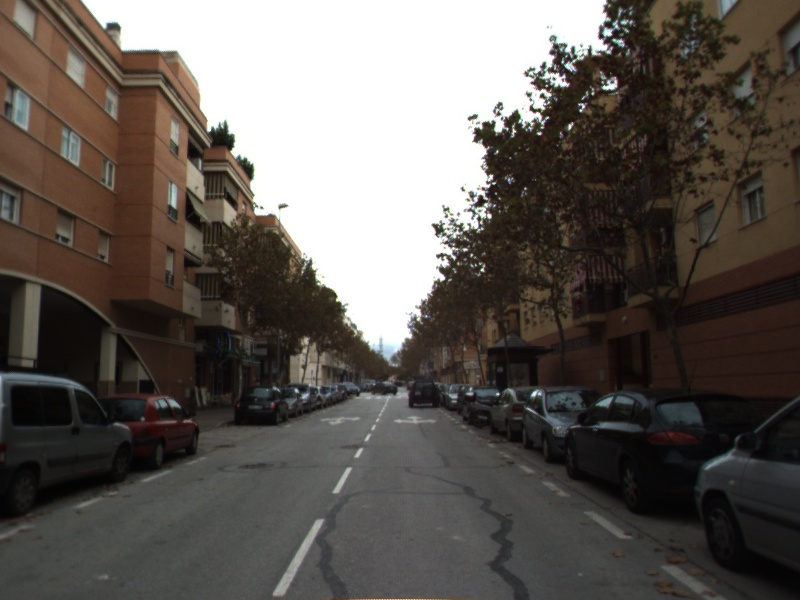STRAIGHT_LEFT_RIGHT: (391, 413, 439, 426)
